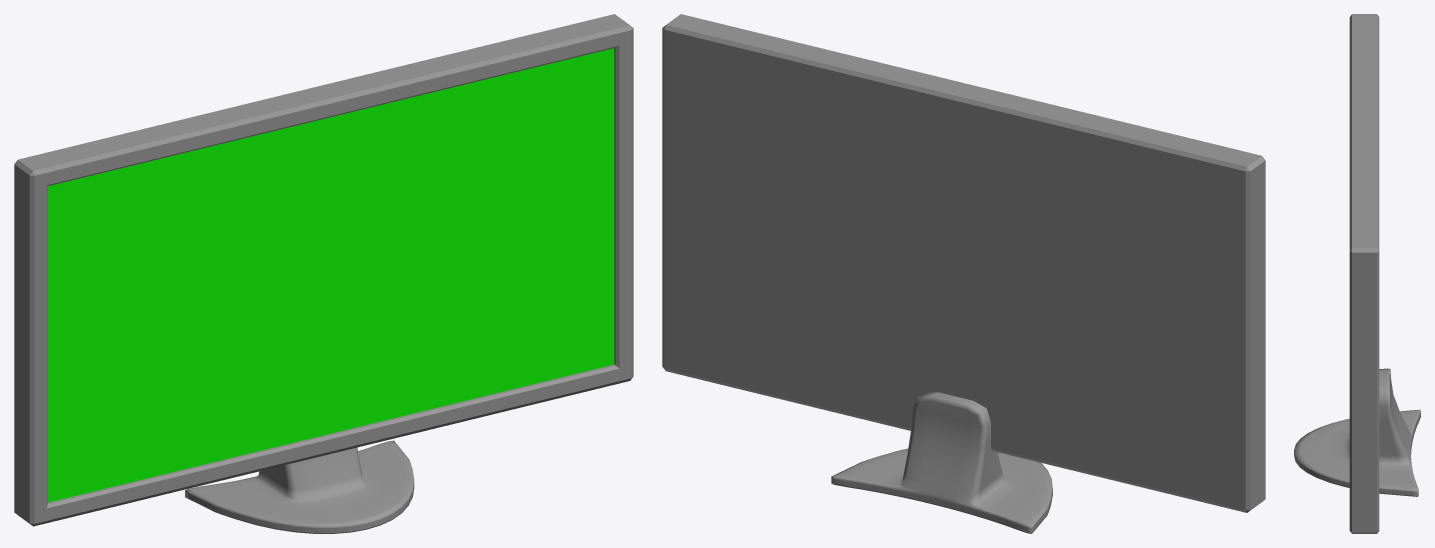
File: ProtoScreen.FBX
3 views of the same model, side by side, from view 1: azimuth 30°, elevation 25°; view 2: azimuth 150°, elevation 25°; view 3: azimuth 270°, elevation 25° (orthographic). The views are drawn at different scales.
Visible parts, largest first — view 1: LCD, Monitor; view 2: Monitor; view 3: Monitor.
Boxes of the visible parts, x1=… form: LCD: x1=47, y1=48, x2=614, y2=502; Monitor: x1=14, y1=14, x2=633, y2=533; Monitor: x1=662, y1=14, x2=1265, y2=533; Monitor: x1=1294, y1=14, x2=1420, y2=533.
Bounding box in the file's own units: 30.85 × 6.99 × 19.79.
